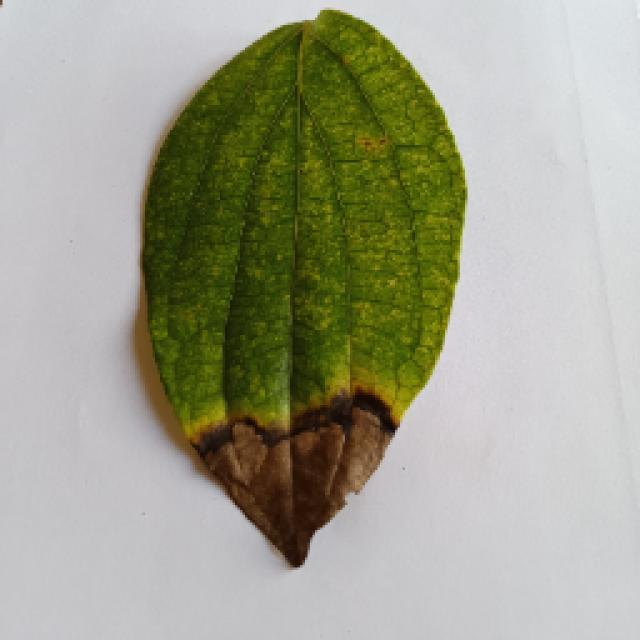footrot: (140, 13, 465, 565)
